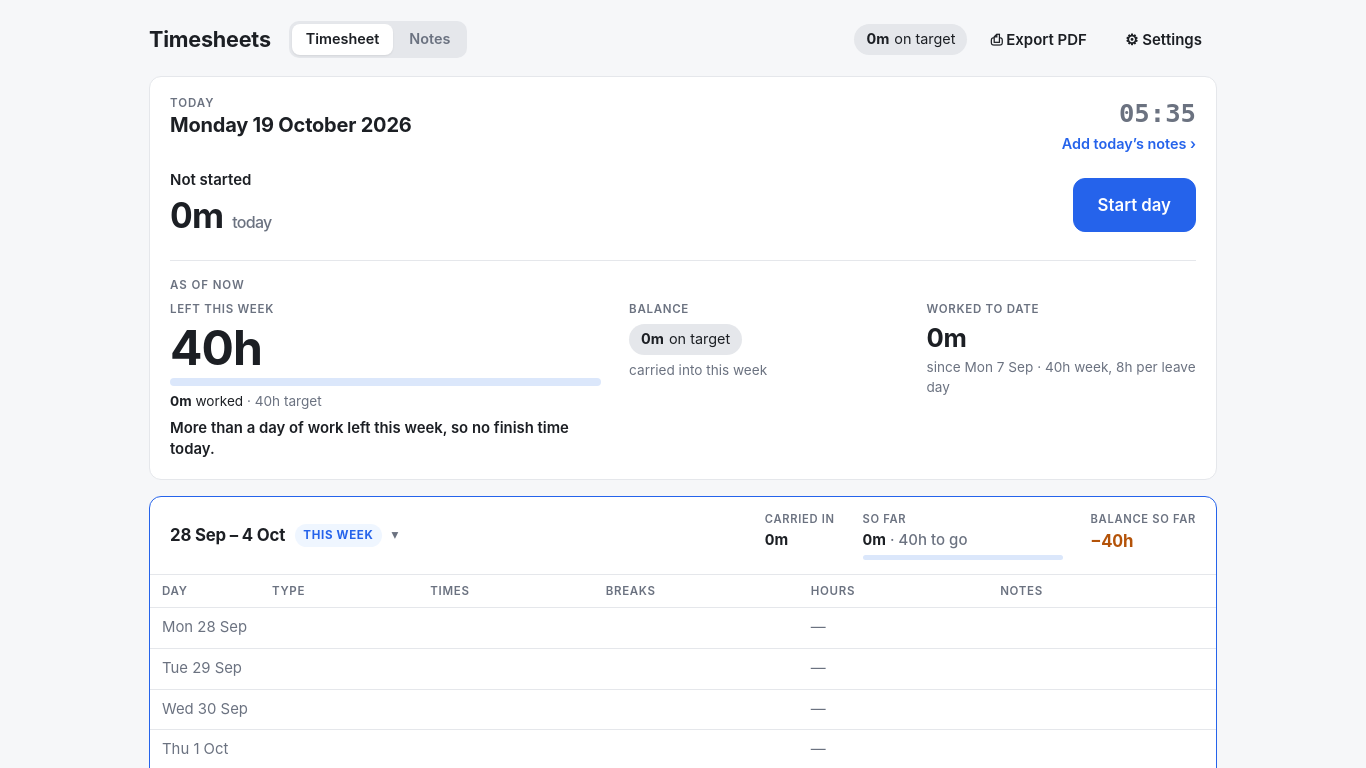
Test case: App › opens the export dialog from the top bar with the view dates
The image size is (1366, 768).
Expected: the text "Not started" is shown, [170,170,251,189]
Click the button "⎙ Export PDF" at point(1039, 40), box [975,20,1102,60]
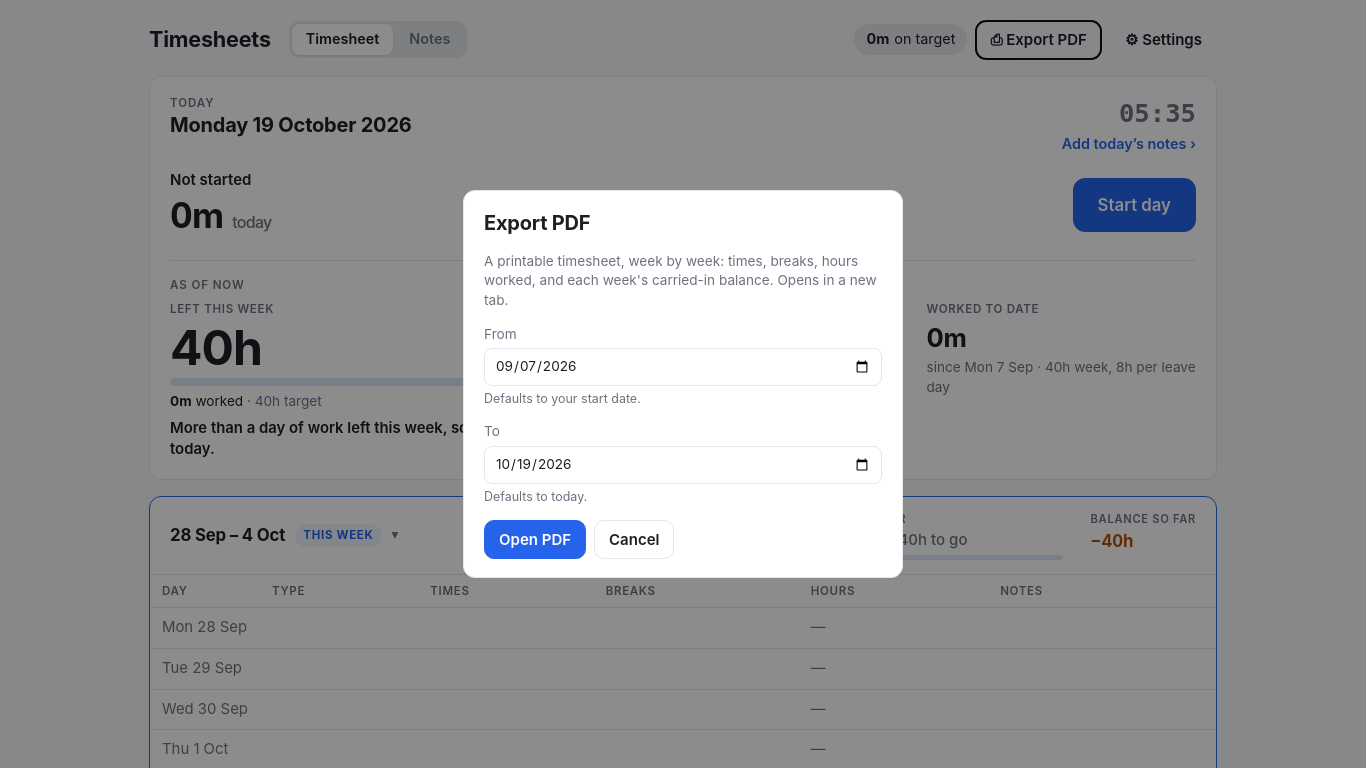
Expected: the date field labelled "From" holds "2026-09-07", [484,348,882,386]
Expected: the date field labelled "To" holds "2026-10-19", [484,446,882,484]
